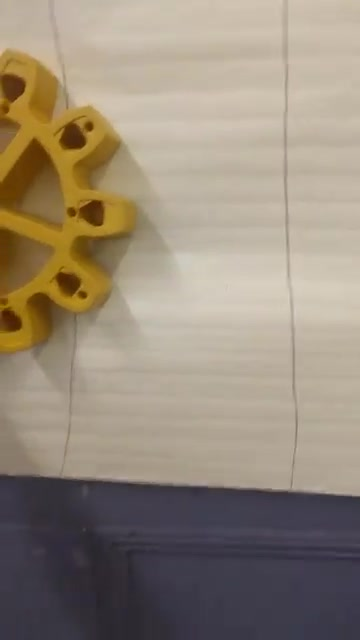gear: (1, 43, 136, 354)
